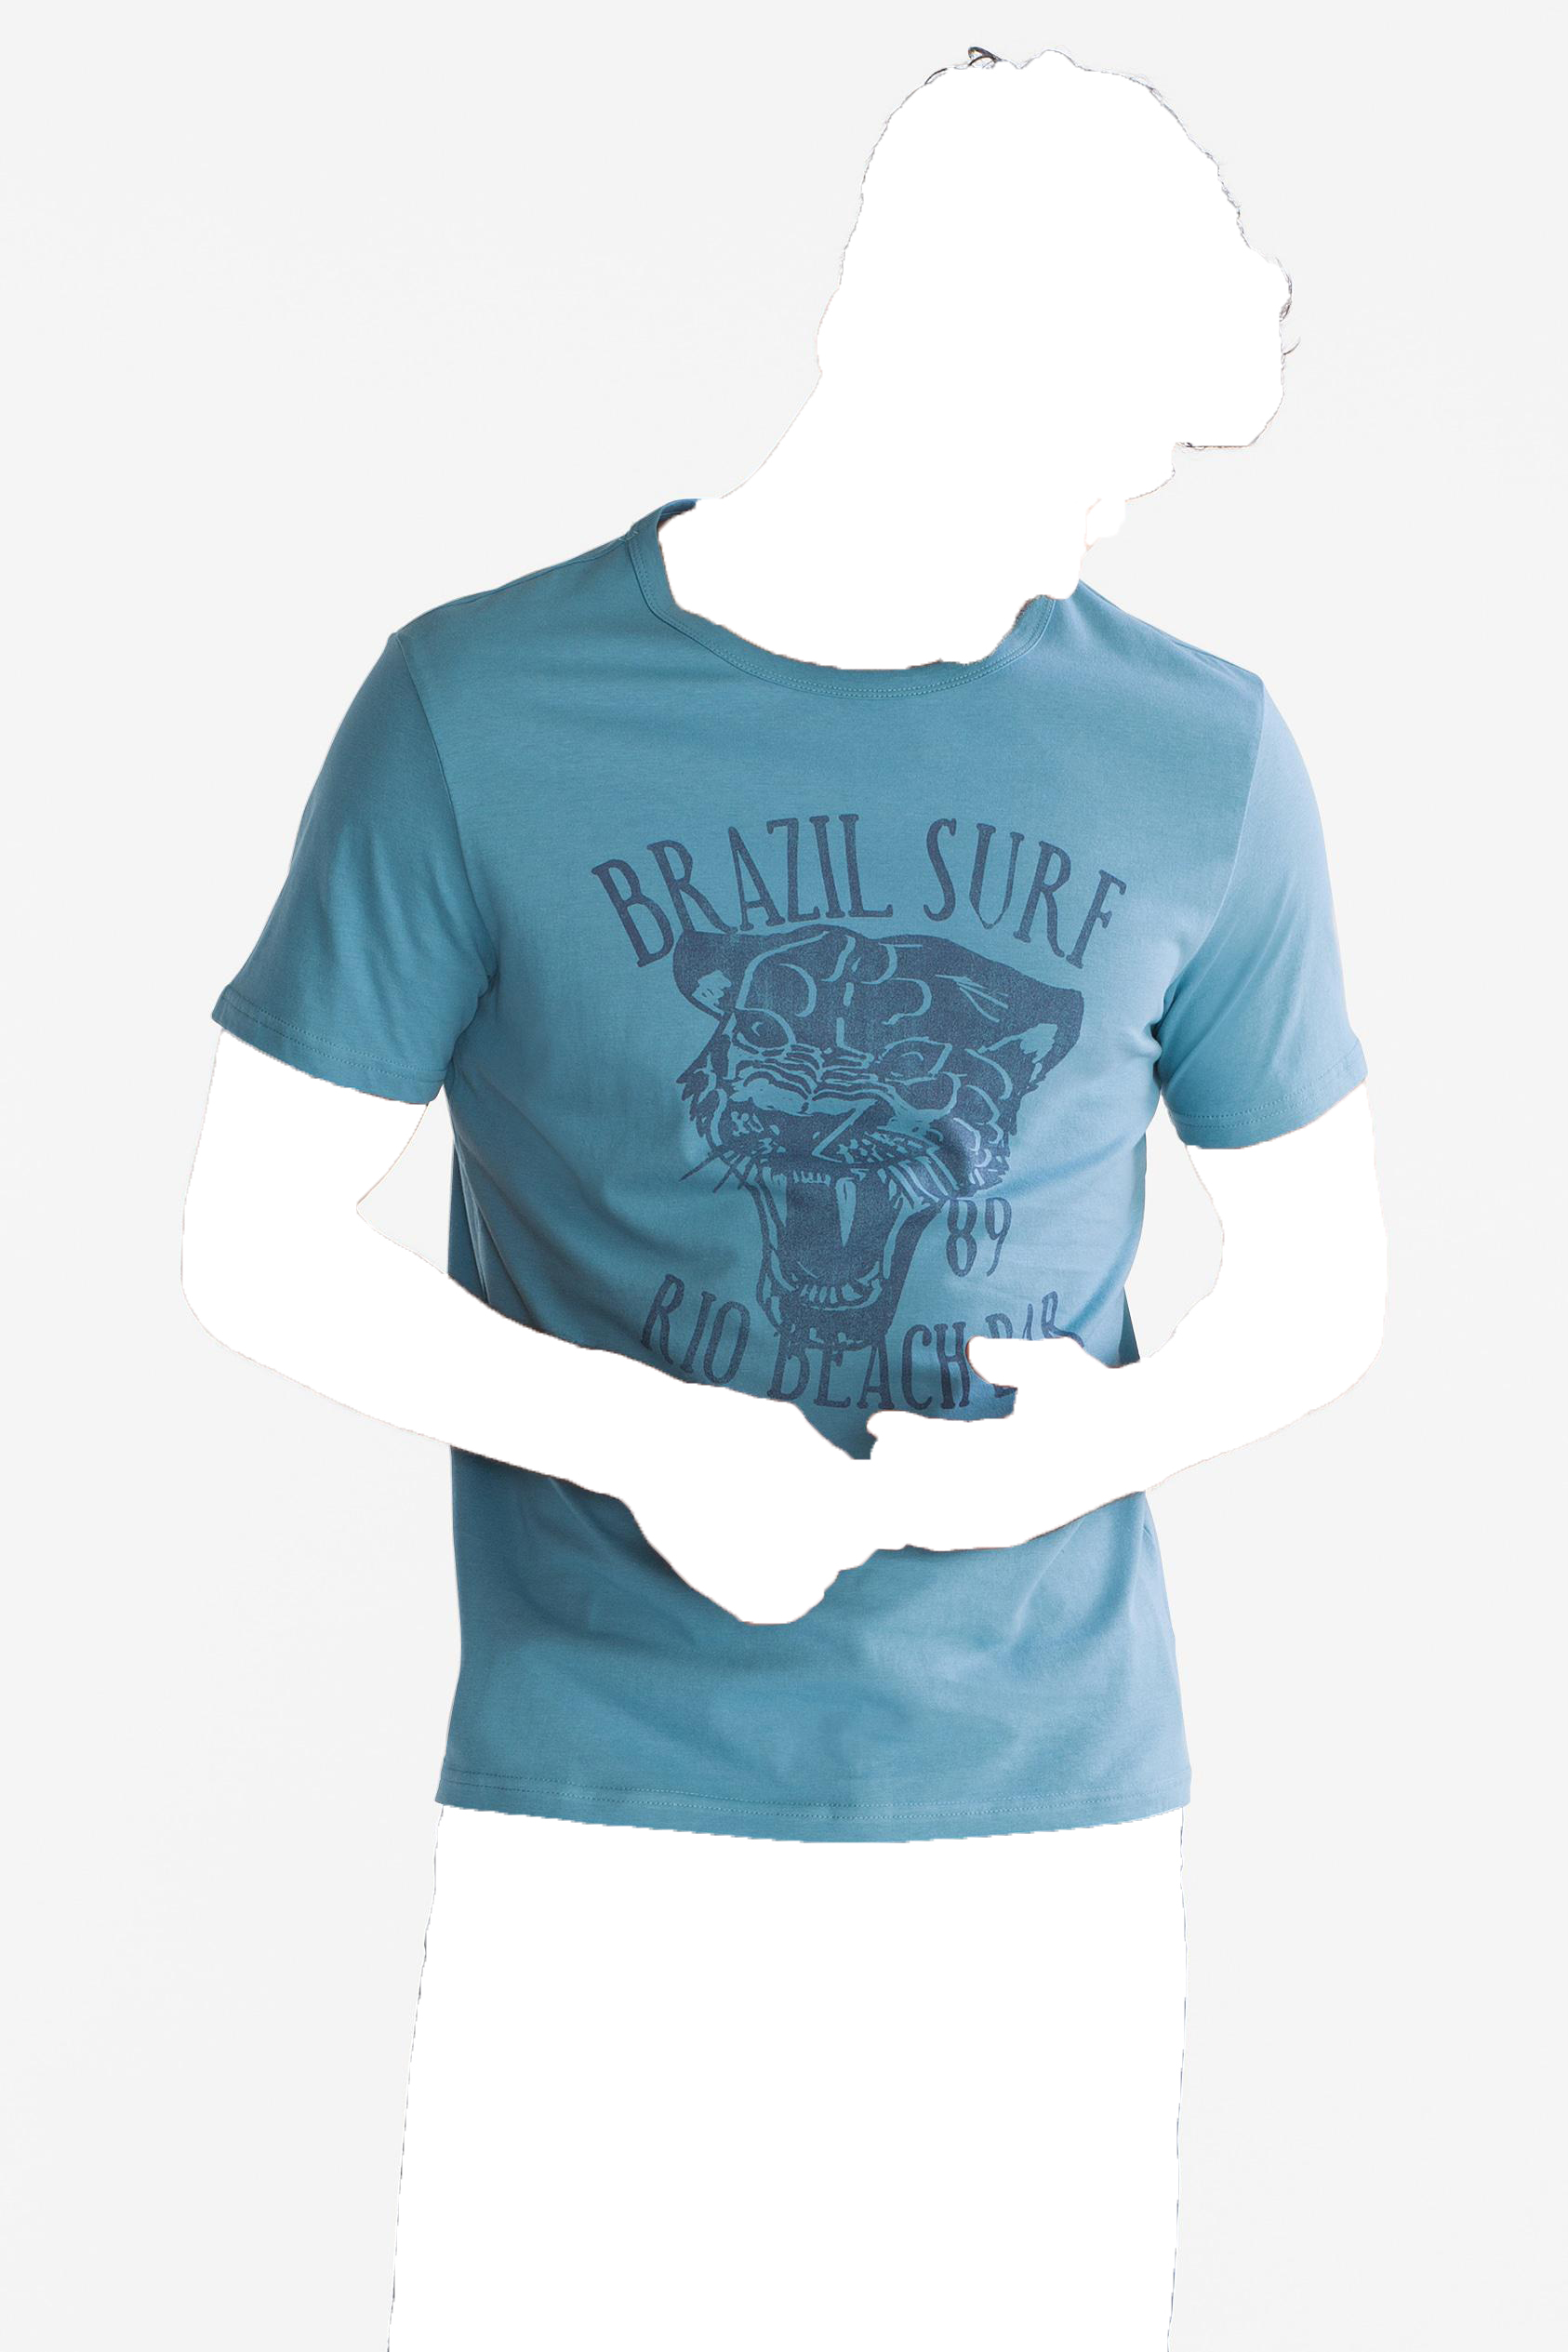teeshirt: (210, 485, 1382, 1858)
